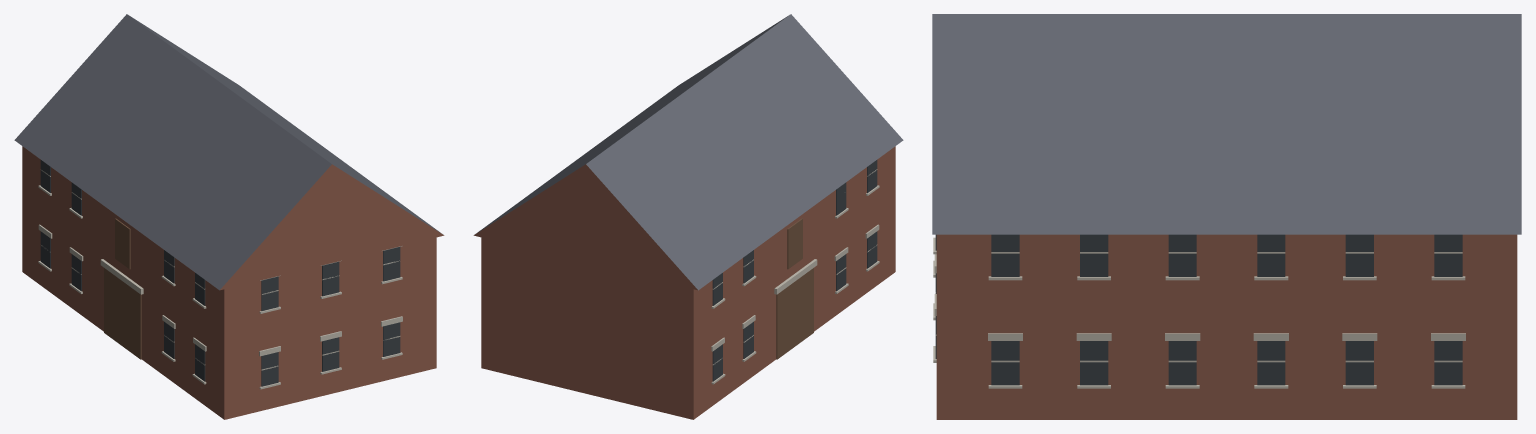
Rendered from house_2026_prairie_coach_house__draft_1904.glb.
3 views of the same model, side by side, from view 1: azimuth 30°, elevation 25°; view 2: azimuth 150°, elevation 25°; view 3: azimuth 270°, elevation 25° (orthographic). The views are drawn at different scales.
Visible parts, largest first — view 1: house_2026_prairie_coach_house__draft_1904; view 2: house_2026_prairie_coach_house__draft_1904; view 3: house_2026_prairie_coach_house__draft_1904.
Part boxes in pixels (left/top/right/bottom): house_2026_prairie_coach_house__draft_1904: left=14, top=14, right=444, bottom=419; house_2026_prairie_coach_house__draft_1904: left=473, top=14, right=903, bottom=419; house_2026_prairie_coach_house__draft_1904: left=932, top=14, right=1521, bottom=419.
Bounding box in the file's own units: 10.6 × 10.4 × 16.74.
